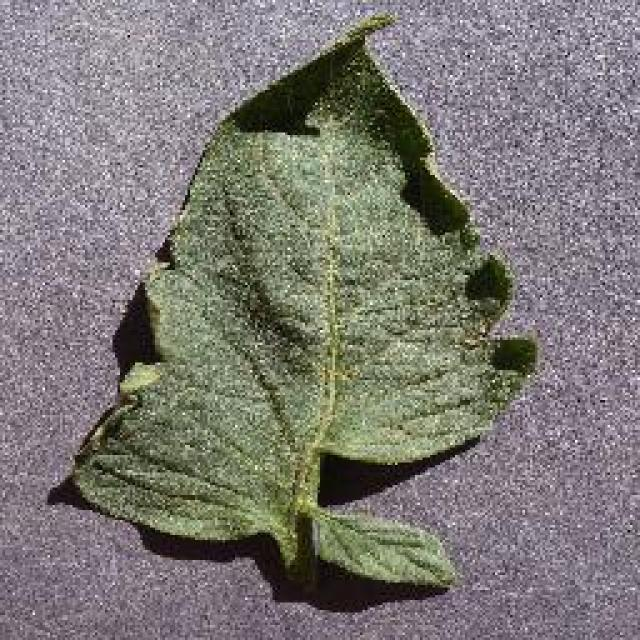Tomato___healthy: (63, 13, 547, 590)
